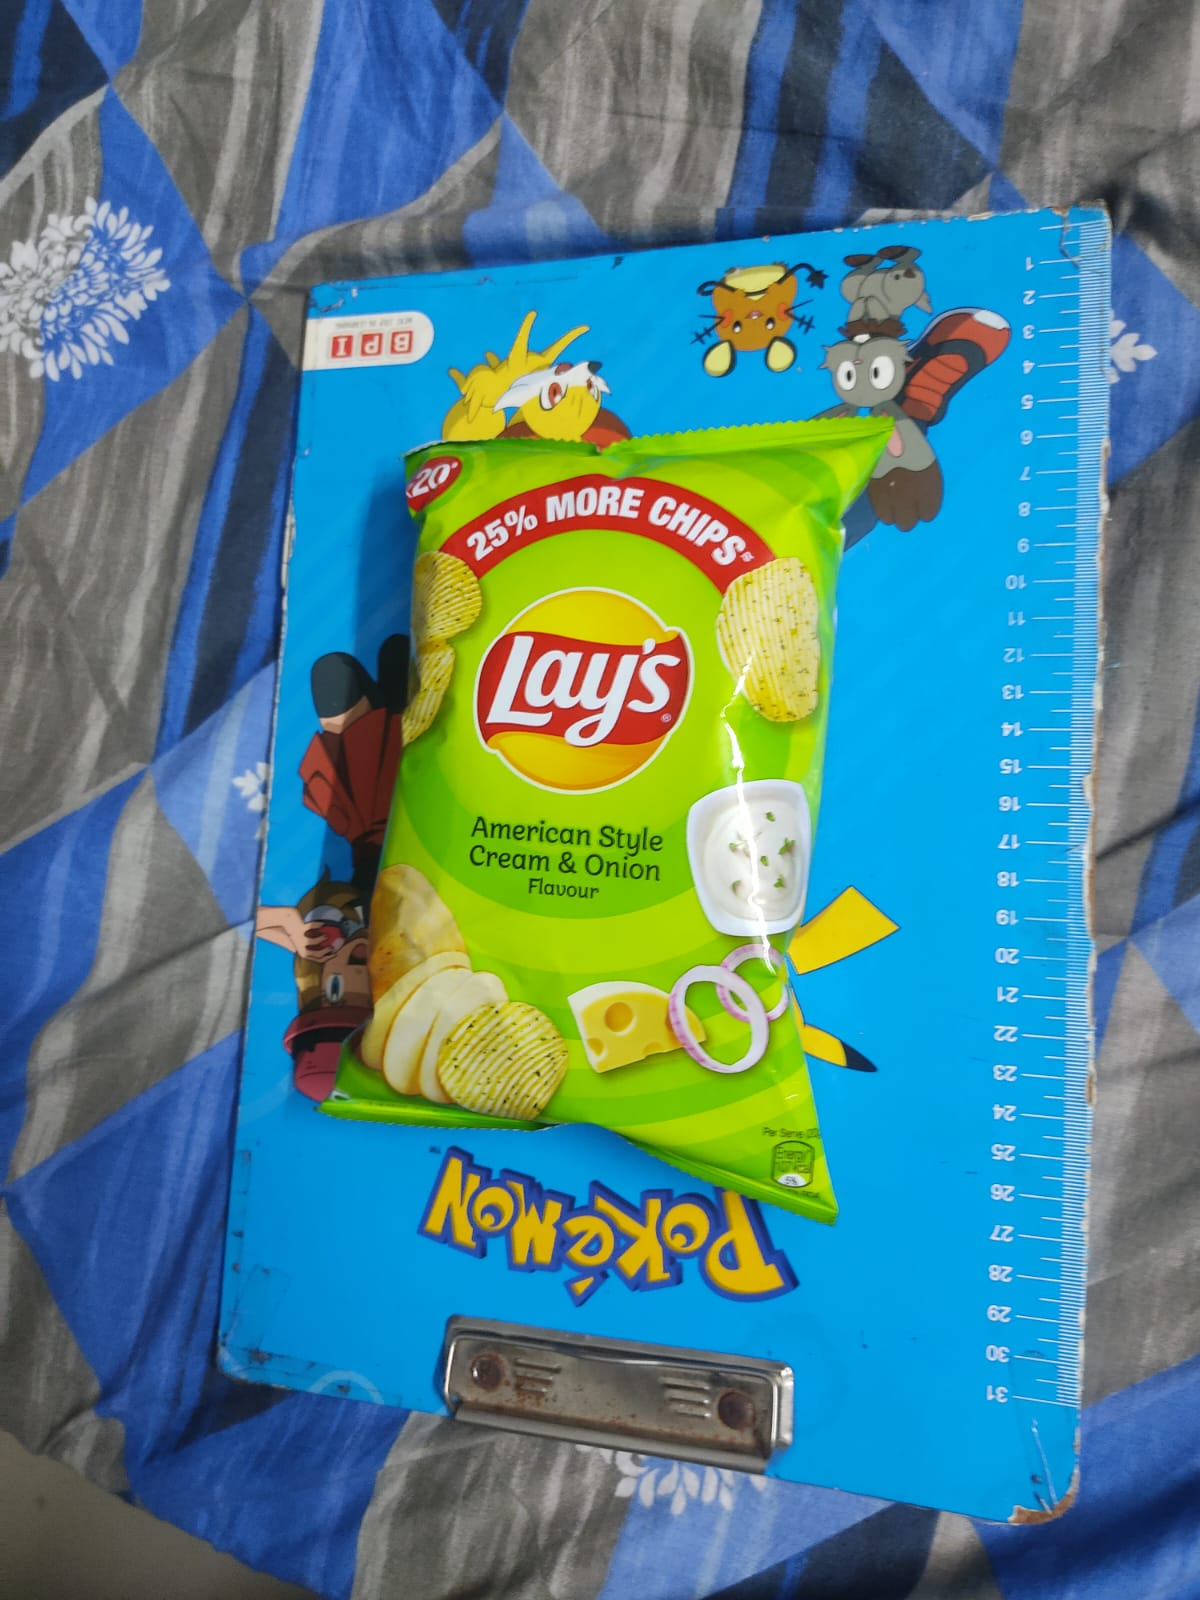020_GreenLays: (357, 426, 880, 1124)
